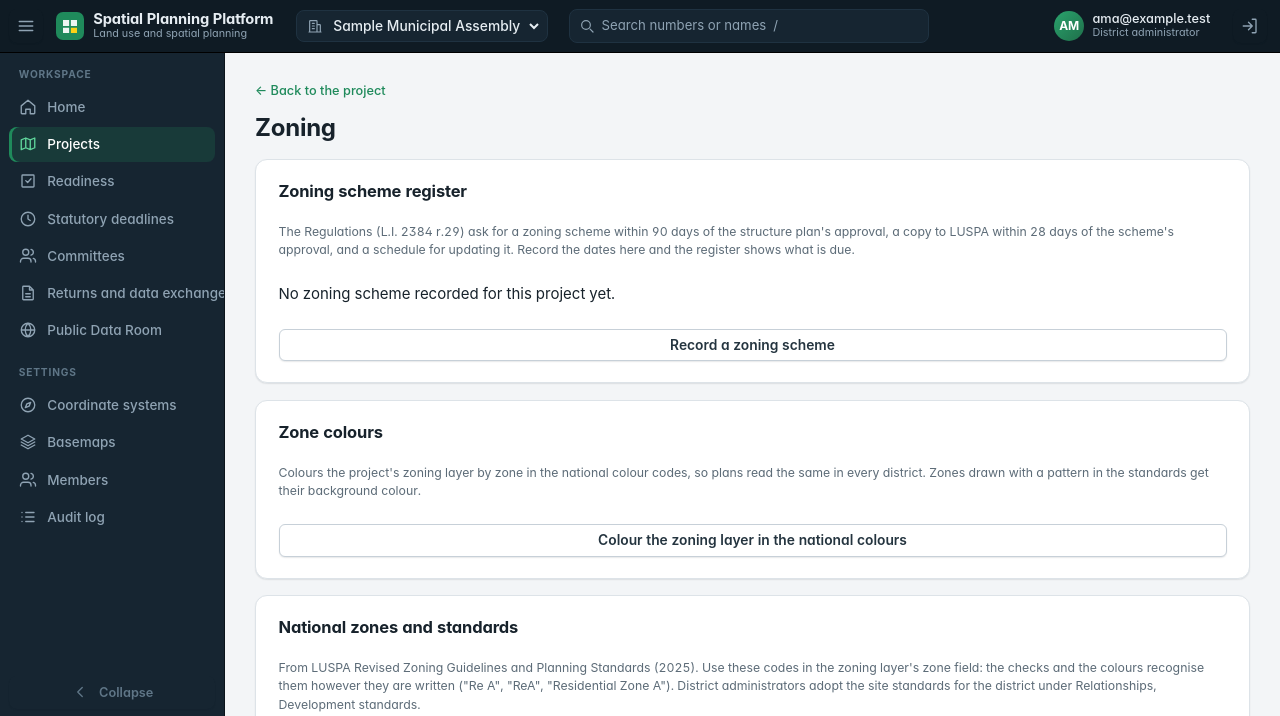
Test: zoning page › colours the zoning layer and says which zones weren't recognised
The width and height of the screenshot is (1280, 716).
Click the button "Colour the zoning layer in the national colours" at (752, 540), box [278,524,1226,557]
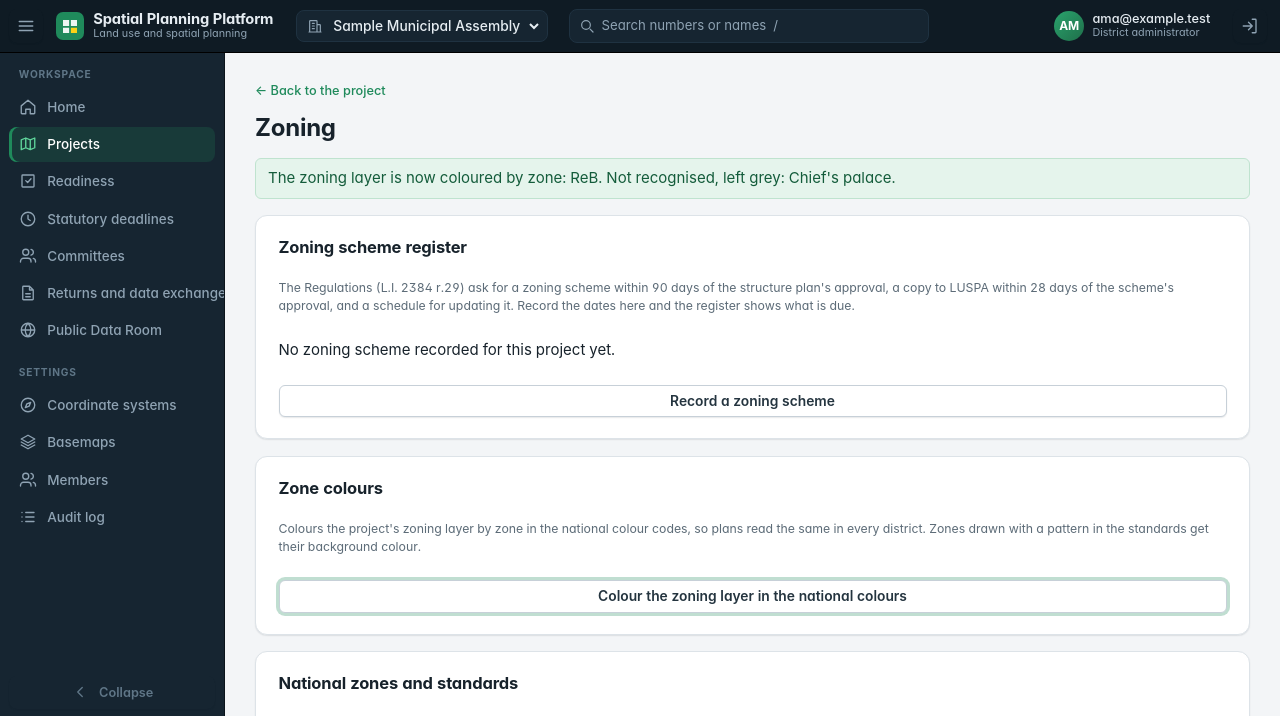
Now the message shows "coloured by zone: ReB. Not recognised, left grey: Chief's palace.", box [268,168,896,187]
